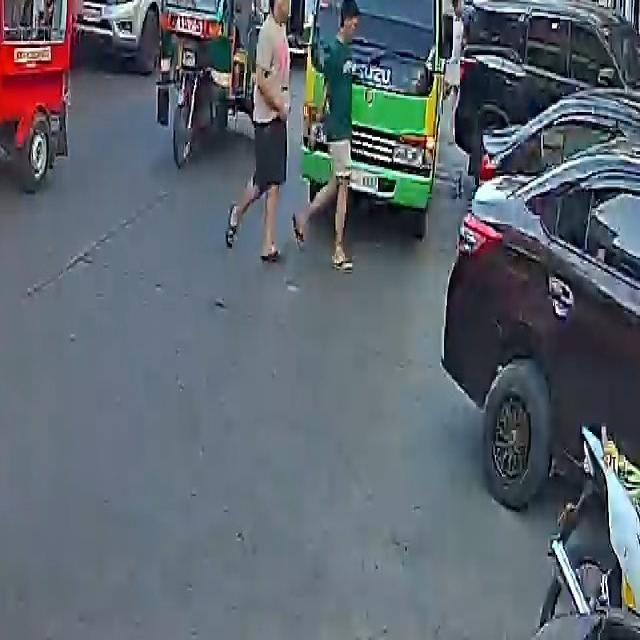car: (443, 46, 640, 544), (464, 0, 640, 185), (74, 0, 186, 68)
